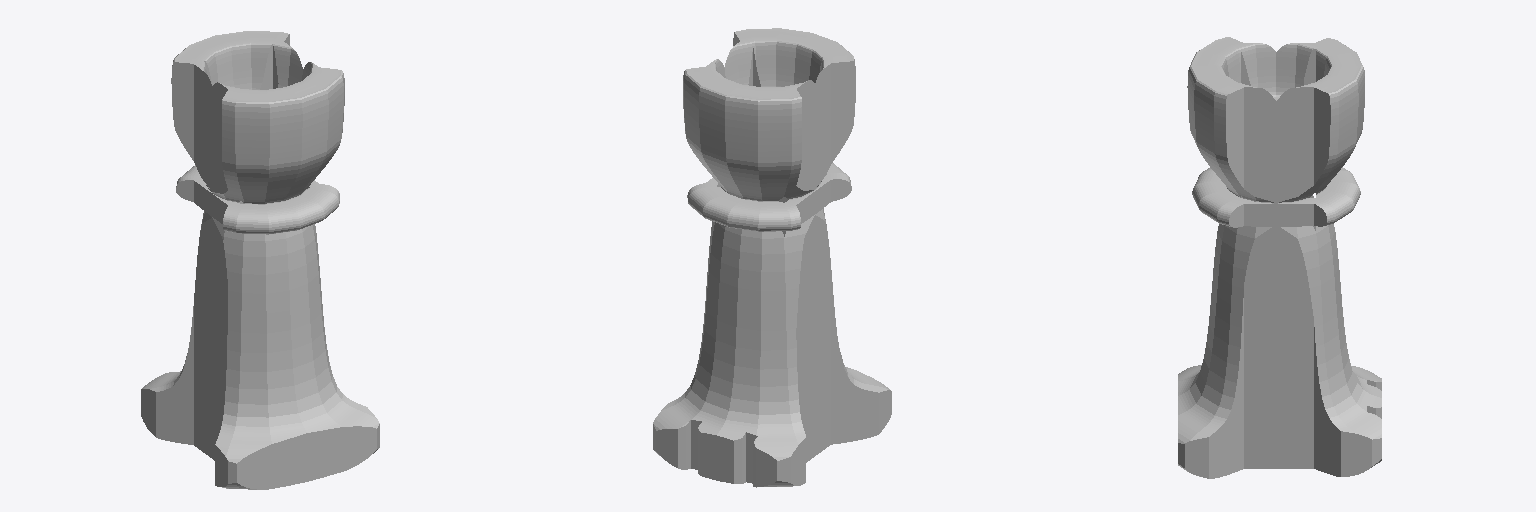
The model's file is Rook.obj.
3 views of the same model, side by side, from view 1: azimuth 30°, elevation 25°; view 2: azimuth 150°, elevation 25°; view 3: azimuth 270°, elevation 25° (orthographic).
Parts seen in each view (by area): view 1: 3D.Black.Rook.001_BezierCurve.015; view 2: 3D.Black.Rook.001_BezierCurve.015; view 3: 3D.Black.Rook.001_BezierCurve.015.
Boxes of the visible parts, box(x1,y1,x2,y2) form: 3D.Black.Rook.001_BezierCurve.015: box(141, 31, 379, 489); 3D.Black.Rook.001_BezierCurve.015: box(653, 28, 891, 487); 3D.Black.Rook.001_BezierCurve.015: box(1178, 37, 1381, 478).
Size of the model in its own units: 1.54 by 3.68 by 1.79.